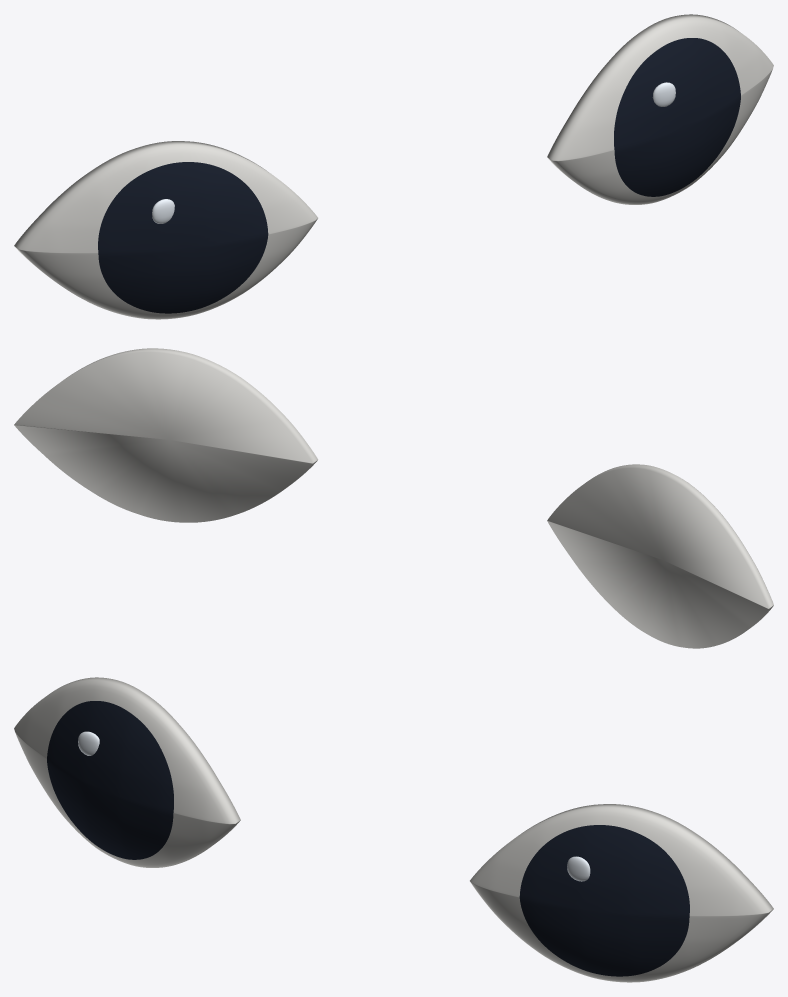
Rendered from Masculine-eyes-almond_white.glb.
The picture shows the model from 3 angles, top to bottom: view 1: azimuth 30°, elevation 25°; view 2: azimuth 150°, elevation 25°; view 3: azimuth 330°, elevation 25°; orthographic projection.
Visible parts, largest first — view 1: Eye / pupil -1, Eye / almond -1, Eye / pupil 1, Eye / almond 1; view 2: Eye / almond 1, Eye / almond -1; view 3: Eye / pupil 1, Eye / almond 1, Eye / pupil -1, Eye / almond -1.
Part boxes in pixels (x1=…): Eye / pupil -1: x1=98, y1=162, x2=268, y2=313; Eye / almond -1: x1=14, y1=141, x2=317, y2=319; Eye / pupil 1: x1=614, y1=38, x2=740, y2=196; Eye / almond 1: x1=547, y1=14, x2=773, y2=204; Eye / almond 1: x1=14, y1=348, x2=317, y2=522; Eye / almond -1: x1=547, y1=464, x2=773, y2=648; Eye / pupil 1: x1=519, y1=825, x2=689, y2=976; Eye / almond 1: x1=470, y1=804, x2=773, y2=982; Eye / pupil -1: x1=47, y1=701, x2=173, y2=859; Eye / almond -1: x1=14, y1=677, x2=240, y2=867.
Size of the model in its own units: 0.458 by 0.099 by 0.0527.
